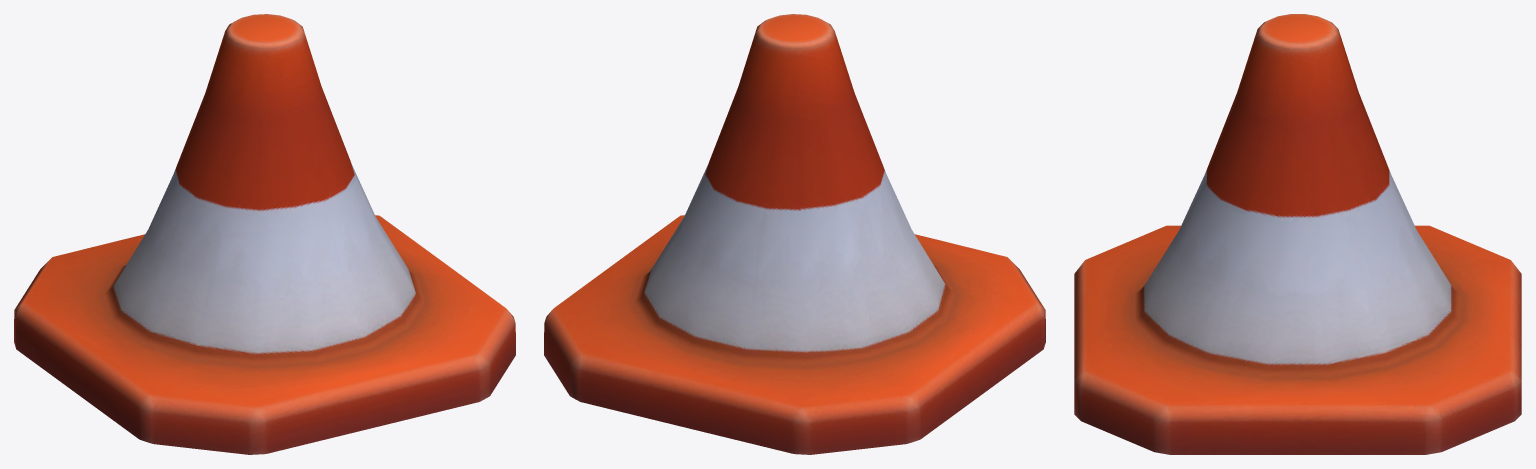
The model's file is Traffic_Cone.fbx.
3 views of the same model, side by side, from view 1: azimuth 30°, elevation 25°; view 2: azimuth 150°, elevation 25°; view 3: azimuth 270°, elevation 25° (orthographic). The views are drawn at different scales.
Parts seen in each view (by area): view 1: traffic_cone_01 (5); view 2: traffic_cone_01 (5); view 3: traffic_cone_01 (5).
Boxes of the visible parts, x1,y1,x2,y2 form: traffic_cone_01 (5): (14,14,515,454); traffic_cone_01 (5): (544,14,1045,454); traffic_cone_01 (5): (1074,14,1521,454).
Size of the model in its own units: 73.62 by 60.24 by 73.62.
